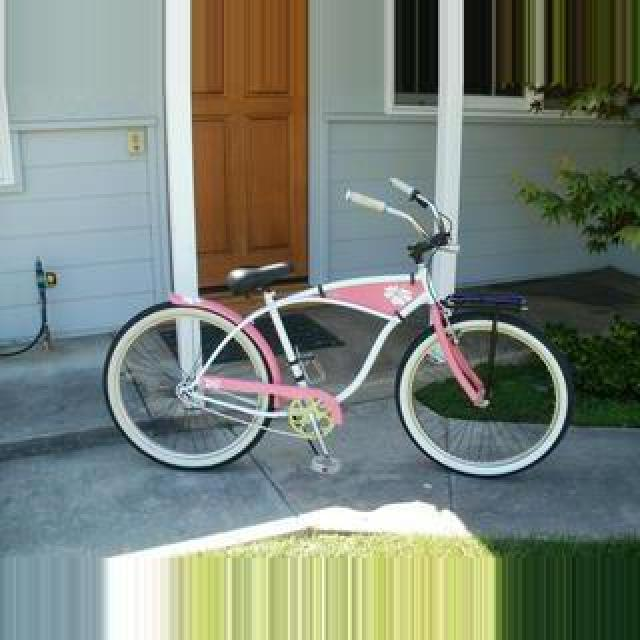Person: (98, 187, 586, 489)
